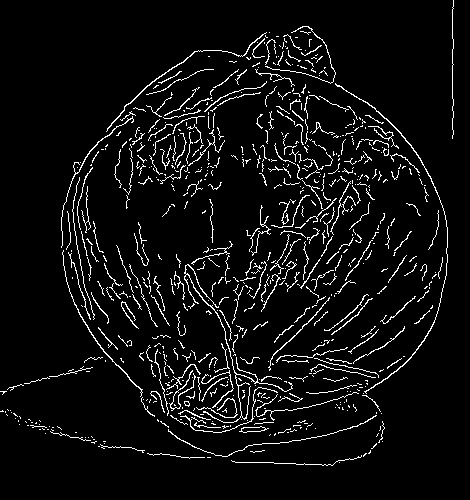onion: (42, 11, 455, 444)
